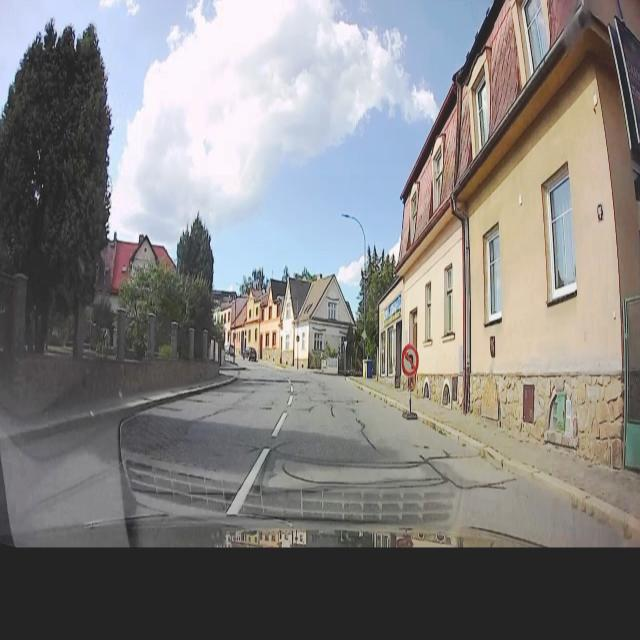Priority road: (361, 328, 368, 341)
